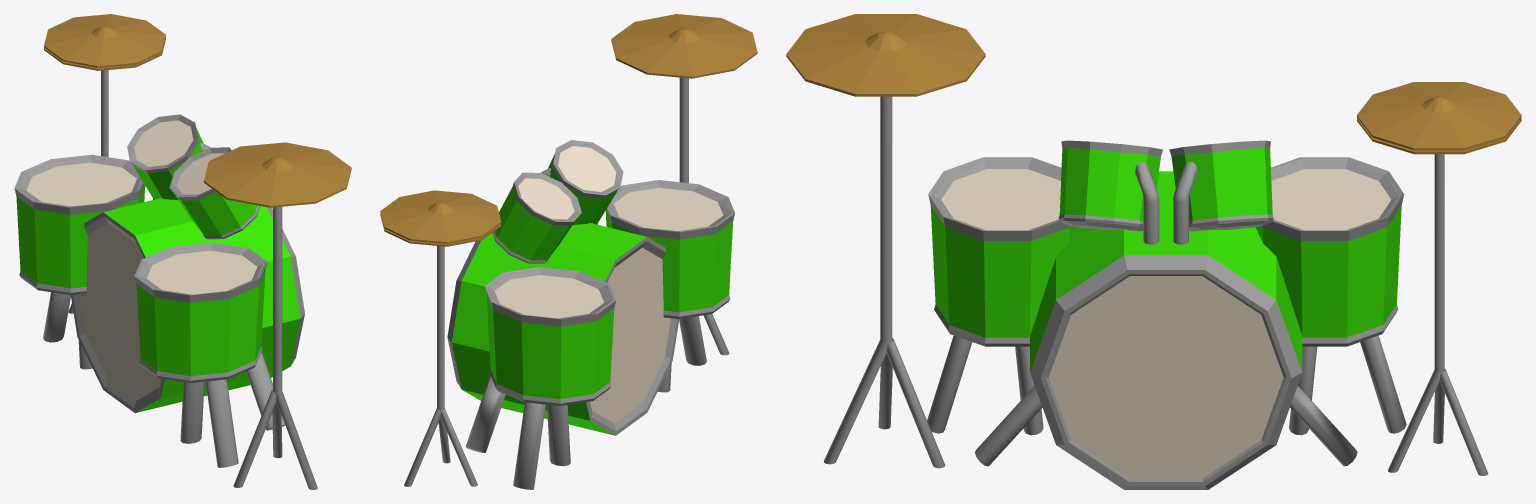
File: drum kit3.fbx
3 renders of one model, left to right at view 1: azimuth 30°, elevation 25°; view 2: azimuth 150°, elevation 25°; view 3: azimuth 270°, elevation 25°, orthographic. The views are drawn at different scales.
Visible parts, largest first — view 1: Circle.003, Circle, Circle.002, Circle.004, Circle.005, Cylinder.001, Cylinder.004, Cylinder.002, Cylinder, Cylinder.005, Cylinder.009, Cylinder.006 (+1 smaller); view 2: Circle.003, Circle, Circle.002, Circle.004, Circle.005, Cylinder.001, Cylinder.009, Cylinder.002, Cylinder, Cylinder.004, Cylinder.007, Cylinder.008 (+2 smaller); view 3: Circle, Circle.003, Circle.002, Circle.004, Circle.005, Cylinder.004, Cylinder.001, Cylinder, Cylinder.009, Cylinder.003, Cylinder.002, Cylinder.006 (+3 smaller).
Part boxes in pixels (box(x1,y1,x2,y2)): Circle.003: box(14, 154, 267, 383); Circle: box(71, 198, 304, 413); Circle.002: box(127, 114, 259, 239); Circle.004: box(204, 142, 351, 207); Circle.005: box(44, 14, 165, 67); Cylinder.001: box(43, 292, 238, 467); Cylinder.004: box(273, 206, 317, 489); Cylinder.002: box(78, 340, 204, 443); Cylinder: box(246, 352, 285, 430); Cylinder.005: box(233, 390, 276, 487); Cylinder.009: box(101, 70, 108, 157); Cylinder.006: box(272, 389, 282, 458); Circle.003: box(484, 180, 734, 405); Circle: box(447, 223, 679, 435); Circle.002: box(492, 140, 623, 263); Circle.004: box(611, 14, 757, 78); Circle.005: box(380, 190, 501, 243); Cylinder.001: box(513, 316, 706, 489); Cylinder.009: box(437, 246, 450, 463); Cylinder.002: box(547, 363, 671, 466); Cylinder: box(465, 376, 505, 452); Cylinder.004: box(679, 77, 688, 183); Cylinder.007: box(404, 408, 444, 486); Cylinder.008: box(438, 408, 477, 486); Circle: box(1030, 171, 1302, 489); Circle.003: box(928, 157, 1404, 346); Circle.002: box(1058, 140, 1273, 231); Circle.004: box(786, 14, 985, 96); Circle.005: box(1357, 82, 1521, 150); Cylinder.004: box(823, 96, 892, 464); Cylinder.001: box(927, 335, 1406, 433); Cylinder: box(975, 386, 1357, 466); Cylinder.009: box(1388, 154, 1444, 472); Cylinder.003: box(1135, 162, 1196, 244); Cylinder.002: box(1015, 346, 1317, 435); Cylinder.006: box(886, 339, 945, 468).
Size of the model in its own units: 214 by 369 by 586.
